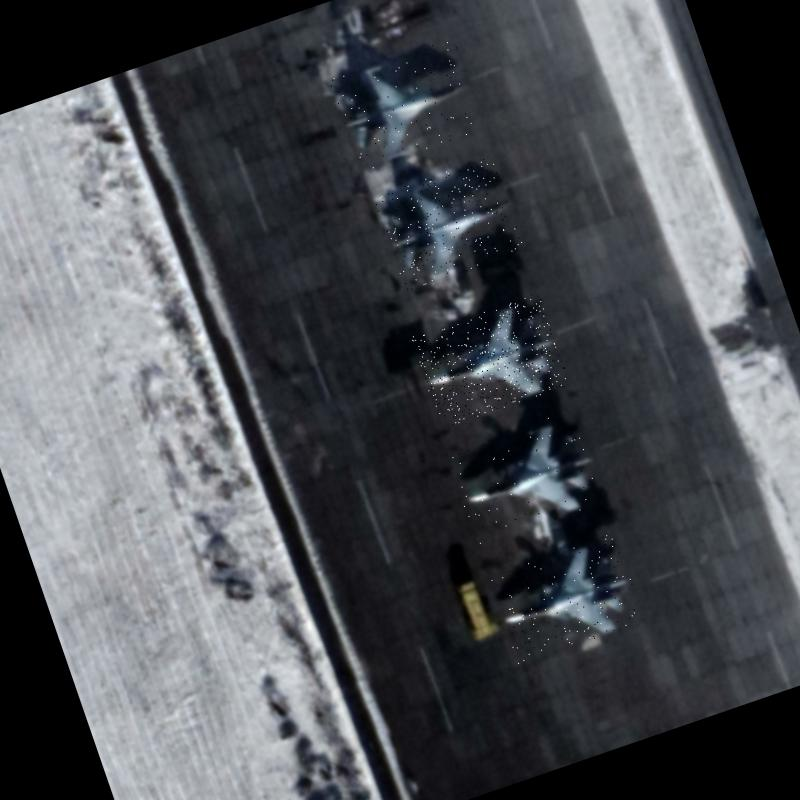A1: (328, 34, 486, 172), (374, 156, 526, 292)
A19: (446, 407, 611, 546), (410, 292, 571, 429), (487, 532, 645, 665)
